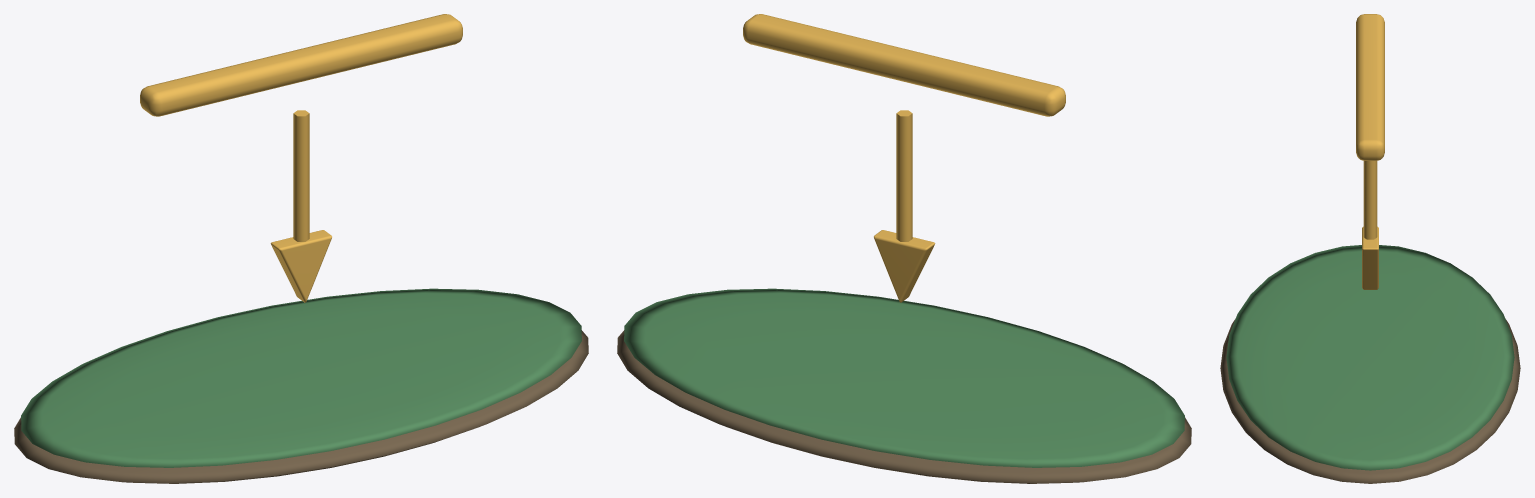
The model's file is below.glb.
The picture shows the model from 3 angles, left to right: view 1: azimuth 30°, elevation 25°; view 2: azimuth 150°, elevation 25°; view 3: azimuth 270°, elevation 25°; orthographic projection. The views are drawn at different scales.
Parts seen in each view (by area): view 1: below_surface_01, below_surface_02, below_surface_00; view 2: below_surface_01, below_surface_02, below_surface_00; view 3: below_surface_01, below_surface_02, below_surface_00.
Part boxes in pixels (x1,y1,x2,y2): below_surface_01: [21, 288, 581, 467]; below_surface_02: [140, 14, 462, 302]; below_surface_00: [14, 330, 588, 483]; below_surface_01: [624, 288, 1184, 467]; below_surface_02: [743, 14, 1065, 302]; below_surface_00: [617, 330, 1191, 483]; below_surface_01: [1226, 245, 1514, 470]; below_surface_02: [1356, 14, 1384, 289]; below_surface_00: [1220, 320, 1520, 483].
Bounding box in the file's own units: 4.56 × 2.81 × 2.5.
